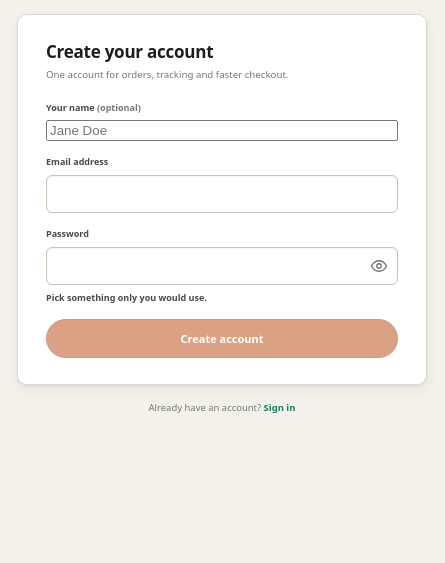
RegisterPage › shows the API rejection and leaves no session behind
The width and height of the screenshot is (445, 563).
Type "taken@example.com" into the field labelled "Email address".
click(222, 194); type("taken@example.com")  # box [46,175,398,213]
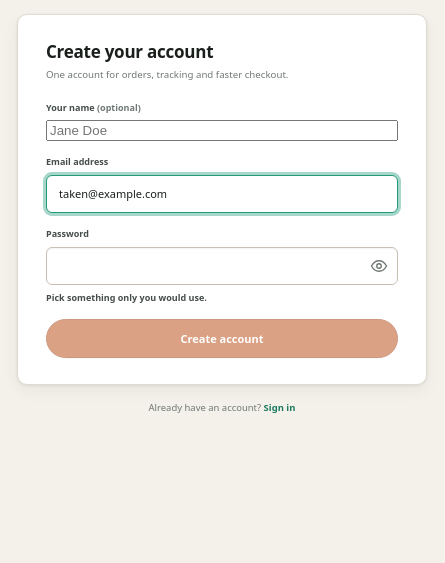
Type "Str0ng!Passw0rd" into the password field labelled "Password".
click(222, 266); type("Str0ng!Passw0rd")  # box [46,247,398,285]
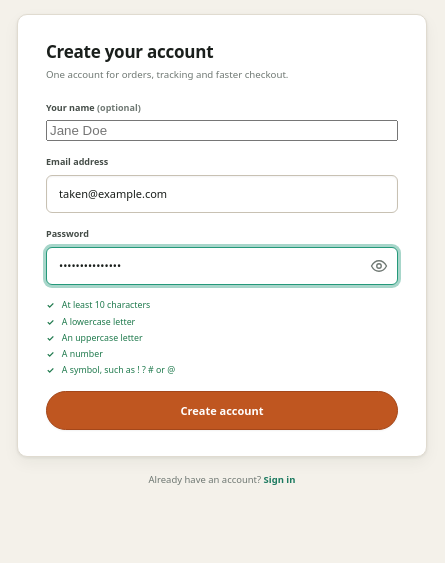
Click the button "Create account".
click(222, 411)  # box [46,391,398,430]
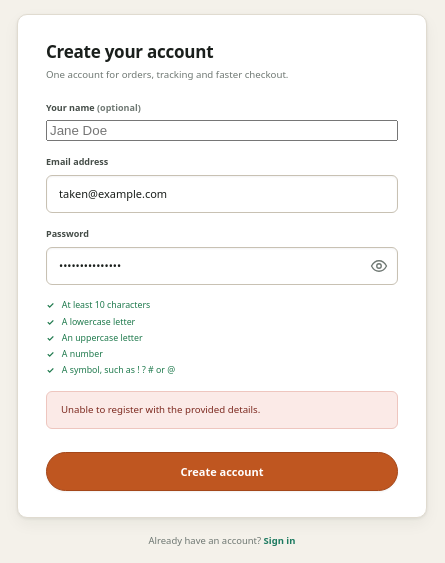
Check: the text "Unable to register with the provided details." is shown, box [46,391,398,429]
